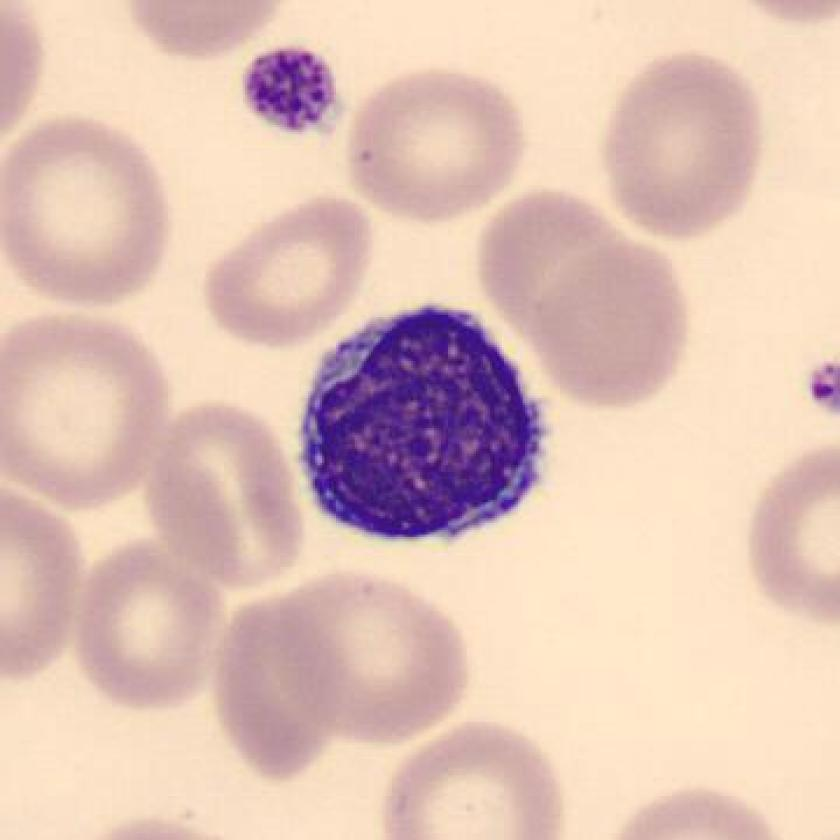lymphocyte: (281, 295, 559, 566)
